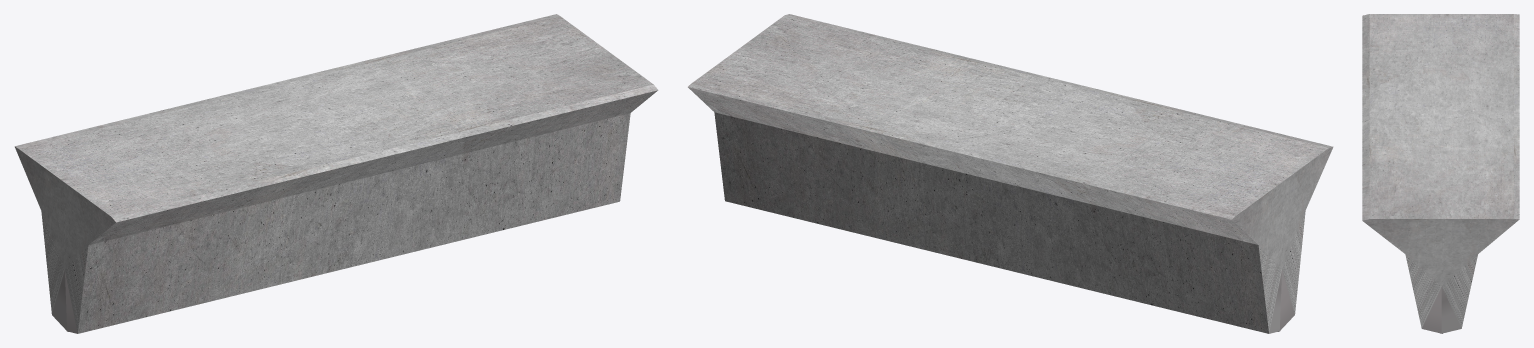
Rendered from Road_Block.FBX.
3 renders of one model, left to right at view 1: azimuth 30°, elevation 25°; view 2: azimuth 150°, elevation 25°; view 3: azimuth 270°, elevation 25°, orthographic. The views are drawn at different scales.
Visible parts, largest first — view 1: Box001; view 2: Box001; view 3: Box001.
Boxes of the visible parts, left/top/right/bottom form: Box001: left=14, top=14, right=658, bottom=333; Box001: left=688, top=14, right=1333, bottom=333; Box001: left=1362, top=14, right=1519, bottom=333.
Size of the model in its own units: 47.85 by 12.61 by 15.54.
1 material, 1 textured.
